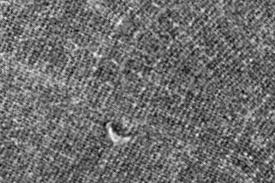snag: (101, 118, 135, 149)
